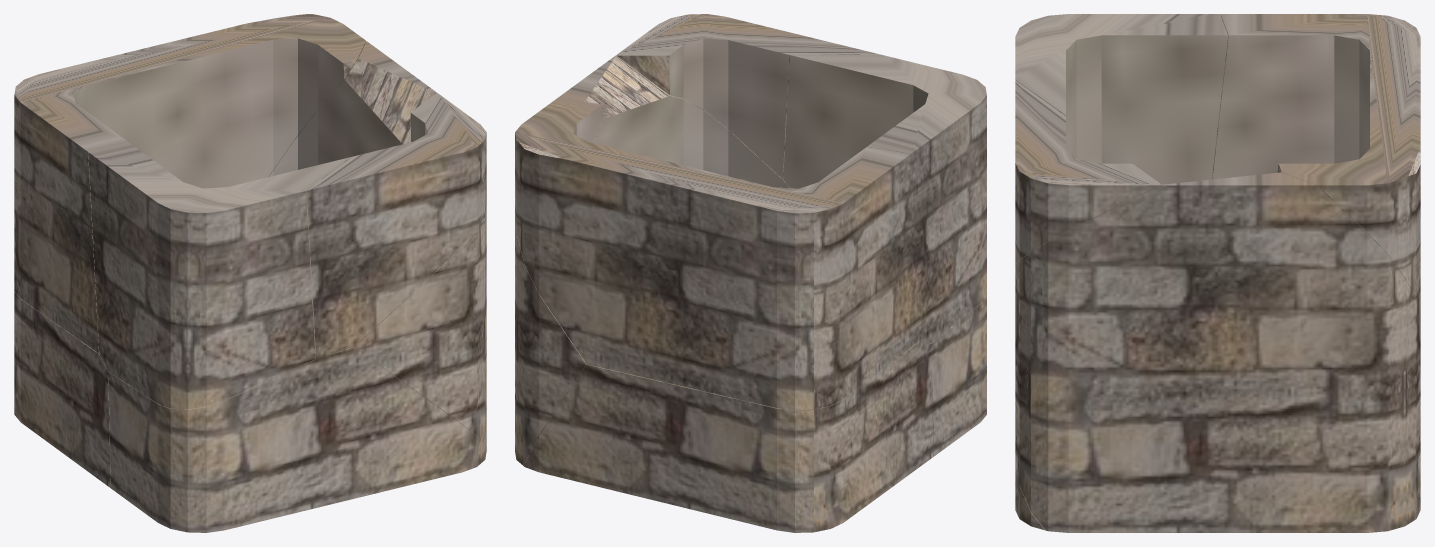
The model's file is Column_F1-rigid.glb.
The picture shows the model from 3 angles, left to right: view 1: azimuth 30°, elevation 25°; view 2: azimuth 150°, elevation 25°; view 3: azimuth 270°, elevation 25°; orthographic projection. The views are drawn at different scales.
Visible parts, largest first — view 1: Column_F26-rigid, Column_F2-rigid, Column_F24-rigid, Column_F22-rigid, Column_F23-rigid, Column_F25-rigid; view 2: Column_F26-rigid, Column_F25-rigid, Column_F2-rigid, Column_F23-rigid, Column_F22-rigid, Column_F24-rigid; view 3: Column_F23-rigid, Column_F26-rigid, Column_F2-rigid, Column_F22-rigid, Column_F24-rigid.
Part boxes in pixels (x1=…): Column_F26-rigid: x1=14, y1=14, x2=365, y2=353; Column_F2-rigid: x1=88, y1=139, x2=350, y2=409; Column_F24-rigid: x1=108, y1=347, x2=486, y2=532; Column_F22-rigid: x1=307, y1=93, x2=486, y2=358; Column_F23-rigid: x1=269, y1=41, x2=486, y2=452; Column_F25-rigid: x1=14, y1=291, x2=110, y2=487; Column_F26-rigid: x1=515, y1=102, x2=921, y2=410; Column_F25-rigid: x1=524, y1=339, x2=933, y2=532; Column_F2-rigid: x1=783, y1=54, x2=986, y2=343; Column_F23-rigid: x1=515, y1=55, x2=789, y2=465; Column_F22-rigid: x1=616, y1=14, x2=880, y2=179; Column_F24-rigid: x1=930, y1=295, x2=986, y2=456; Column_F23-rigid: x1=1015, y1=172, x2=1420, y2=532; Column_F26-rigid: x1=1212, y1=14, x2=1420, y2=316; Column_F2-rigid: x1=1015, y1=14, x2=1228, y2=184; Column_F22-rigid: x1=1015, y1=80, x2=1161, y2=265; Column_F24-rigid: x1=1015, y1=458, x2=1044, y2=530.
Size of the model in its own units: 2 by 1.9 by 2.
Materials: 1 (1 with a texture image).
